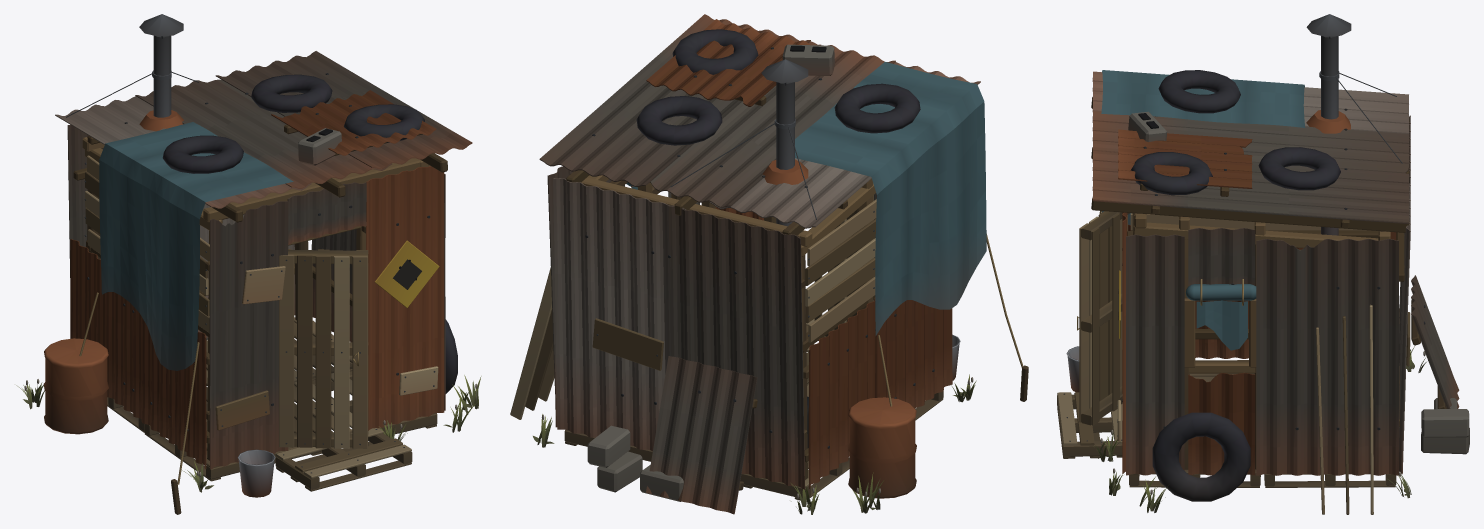
File: shack.glb
3 renders of one model, left to right at view 1: azimuth 30°, elevation 25°; view 2: azimuth 150°, elevation 25°; view 3: azimuth 270°, elevation 25°, orthographic. The views are drawn at different scales.
Visible parts, largest first — view 1: shack; view 2: shack; view 3: shack.
Part boxes in pixels (<box>): shack: <box>16,14,481,514</box>; shack: <box>510,14,1028,514</box>; shack: <box>1057,14,1469,514</box>.
Bounding box in the file's own units: 3.41 × 3.53 × 3.38.
